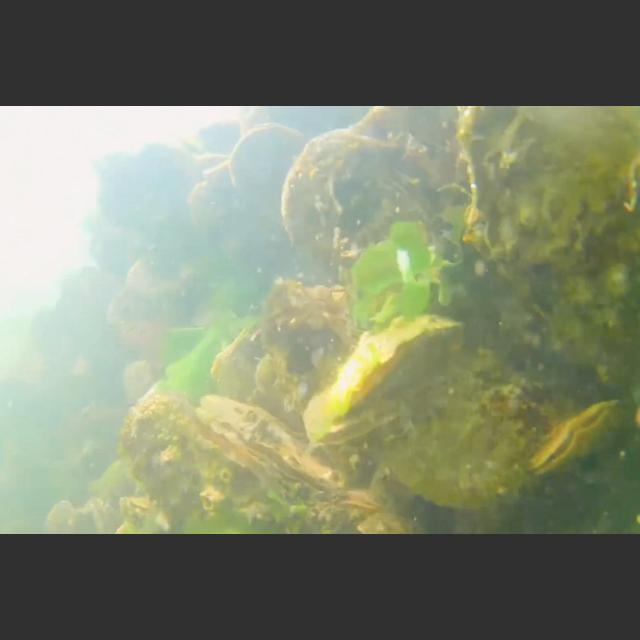Oyster-Closed: (460, 106, 640, 384), (277, 127, 447, 291), (264, 276, 364, 394), (228, 123, 308, 230)
Oyster-Open: (318, 370, 588, 514), (301, 312, 474, 438), (190, 394, 354, 510), (525, 396, 625, 479), (338, 488, 388, 522)
